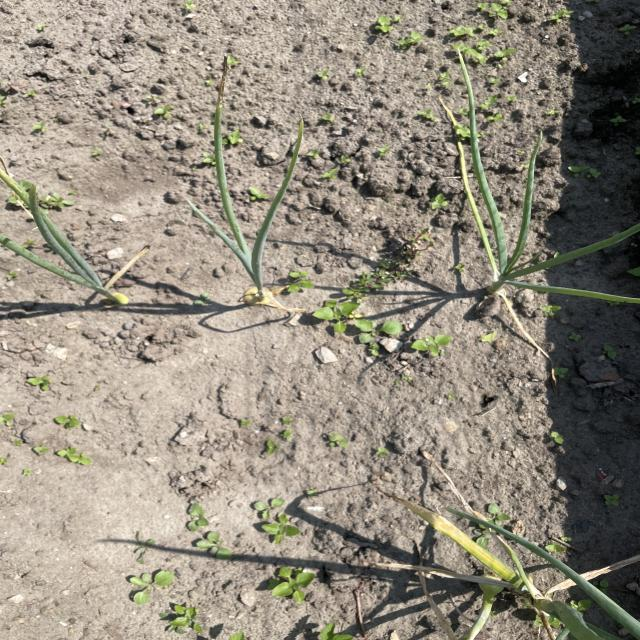Onion: (178, 138, 314, 312), (446, 526, 624, 640), (470, 202, 640, 308), (5, 207, 134, 310)
weed: (181, 496, 248, 570), (252, 490, 307, 550), (460, 4, 514, 64), (256, 562, 332, 604), (352, 316, 417, 349), (371, 18, 428, 53), (124, 566, 177, 601), (312, 298, 361, 335), (411, 330, 459, 364), (156, 606, 208, 634), (276, 263, 311, 302), (53, 406, 87, 434), (478, 506, 510, 530)
